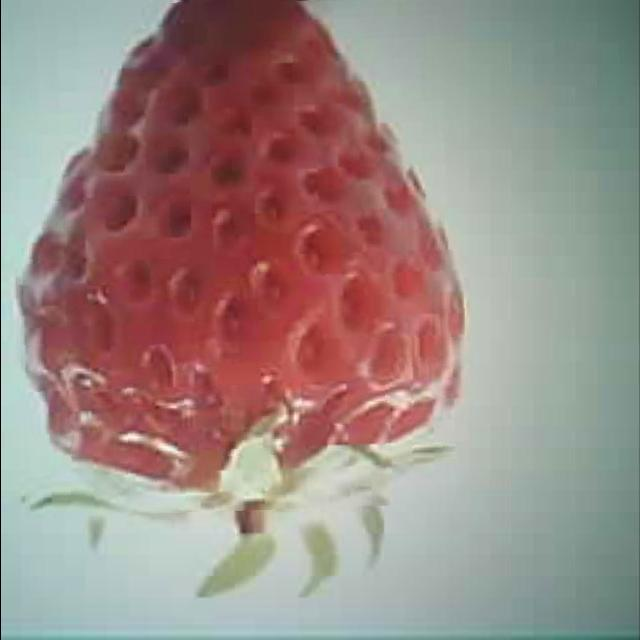strawberry: (11, 0, 466, 514)
